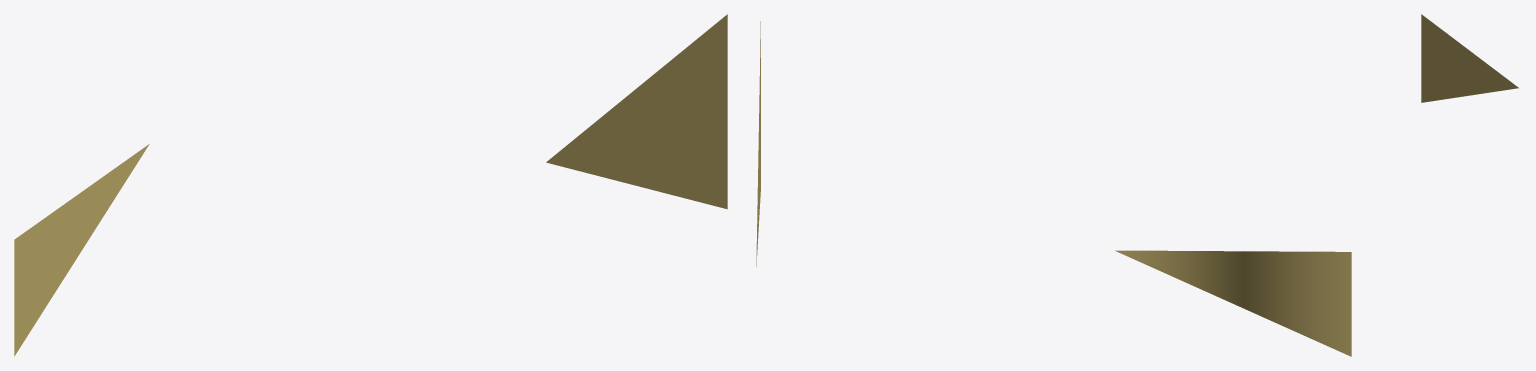
3 renders of one model, left to right at view 1: azimuth 30°, elevation 25°; view 2: azimuth 150°, elevation 25°; view 3: azimuth 270°, elevation 25°, orthographic. The views are drawn at different scales.
Size of the model in its own units: 45.94 by 12.5 by 10.84.
